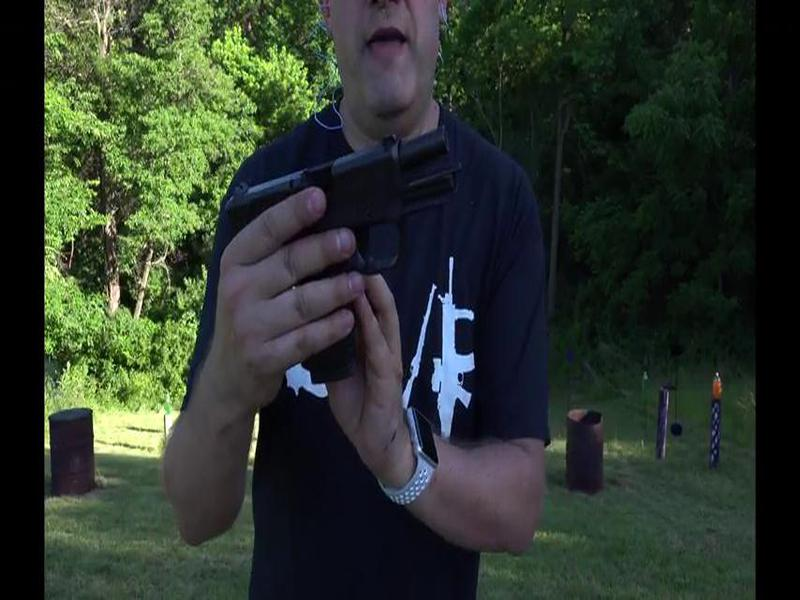Pistola: (223, 115, 469, 383)
